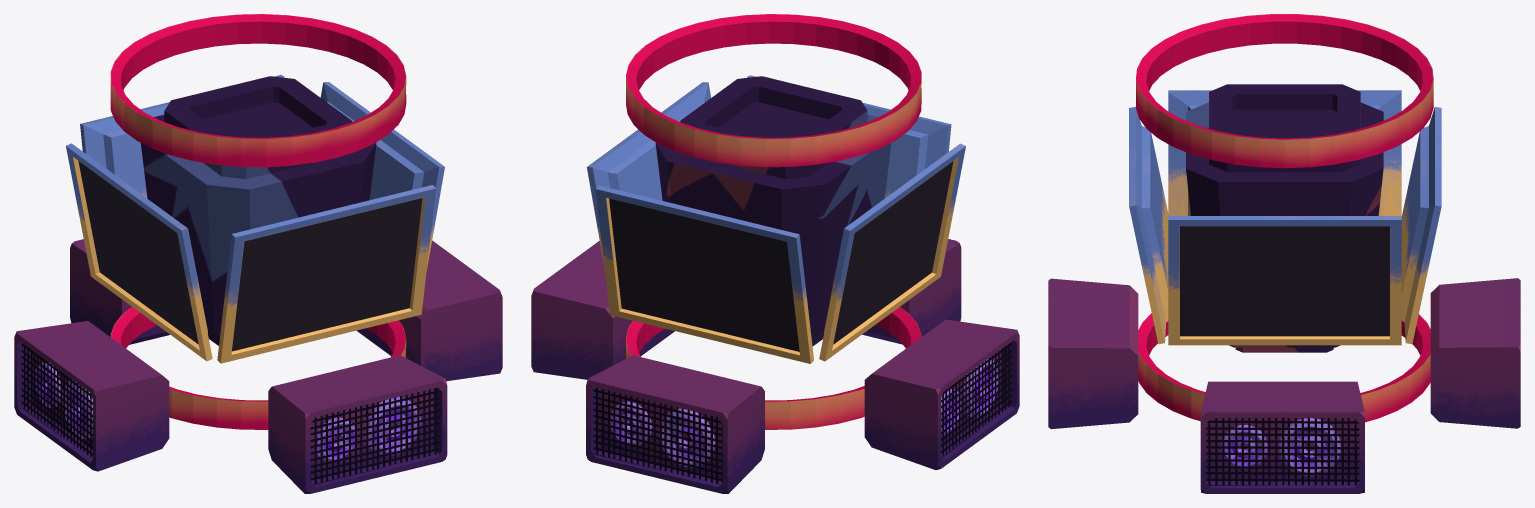
Rendered from Telões Texturizados.fbx.
3 renders of one model, left to right at view 1: azimuth 30°, elevation 25°; view 2: azimuth 150°, elevation 25°; view 3: azimuth 270°, elevation 25°, orthographic.
Visible parts, largest first — view 1: Telão 3, Estrutura base, Decoração de cima, Telão 4, Caixa de som 4, Caixa de som 3, Caixa de som, Gradezinha 3, Decoração de baixo, Telão 1, Gradezinha 4, Telão 2 (+3 smaller); view 2: Telão 2, Estrutura base, Decoração de cima, Telão 4, Caixa de som 4, Caixa de som 2, Caixa de som, Gradezinha 2, Decoração de baixo, Telão 1, Gradezinha 4, Caixa de som 3 (+3 smaller); view 3: Telão 1, Estrutura base, Decoração de cima, Caixa de som 2, Caixa de som 3, Caixa de som, Gradezinha, Telão 2, Telão 3, Decoração de baixo, Telão 4, Interior da caixa de som.
Boxes of the visible parts, x1=… form: Telão 3: x1=217, y1=185, x2=435, y2=363; Estrutura base: x1=140, y1=76, x2=376, y2=345; Decoração de cima: x1=110, y1=14, x2=406, y2=167; Telão 4: x1=66, y1=143, x2=212, y2=361; Caixa de som 4: x1=14, y1=321, x2=169, y2=471; Caixa de som 3: x1=268, y1=355, x2=447, y2=493; Caixa de som: x1=356, y1=240, x2=502, y2=381; Gradezinha 3: x1=310, y1=387, x2=439, y2=484; Decoração de baixo: x1=110, y1=307, x2=406, y2=429; Telão 1: x1=320, y1=82, x2=444, y2=272; Gradezinha 4: x1=21, y1=343, x2=92, y2=457; Telão 2: x1=80, y1=75, x2=284, y2=198; Telão 2: x1=595, y1=185, x2=813, y2=363; Estrutura base: x1=655, y1=76, x2=891, y2=346; Decoração de cima: x1=626, y1=14, x2=921, y2=167; Telão 4: x1=819, y1=143, x2=965, y2=361; Caixa de som 4: x1=864, y1=319, x2=1019, y2=469; Caixa de som 2: x1=586, y1=355, x2=764, y2=493; Caixa de som: x1=531, y1=241, x2=674, y2=379; Gradezinha 2: x1=593, y1=387, x2=722, y2=483; Decoração de baixo: x1=626, y1=307, x2=921, y2=429; Telão 1: x1=587, y1=82, x2=711, y2=265; Gradezinha 4: x1=941, y1=343, x2=1012, y2=458; Caixa de som 3: x1=862, y1=239, x2=961, y2=344; Telão 1: x1=1168, y1=216, x2=1401, y2=345; Estrutura base: x1=1186, y1=84, x2=1383, y2=352; Decoração de cima: x1=1136, y1=14, x2=1433, y2=168; Caixa de som 2: x1=1430, y1=278, x2=1520, y2=428; Caixa de som 3: x1=1048, y1=278, x2=1138, y2=429; Caixa de som: x1=1200, y1=381, x2=1364, y2=493; Gradezinha: x1=1206, y1=418, x2=1359, y2=485; Telão 2: x1=1401, y1=107, x2=1441, y2=344; Telão 3: x1=1129, y1=106, x2=1168, y2=344; Decoração de baixo: x1=1138, y1=313, x2=1430, y2=422; Telão 4: x1=1168, y1=90, x2=1401, y2=215; Interior da caixa de som: x1=1221, y1=418, x2=1340, y2=476.
Bounding box in the file's own units: 2137 × 1583 × 2135.
8 materials, 6 textured.
